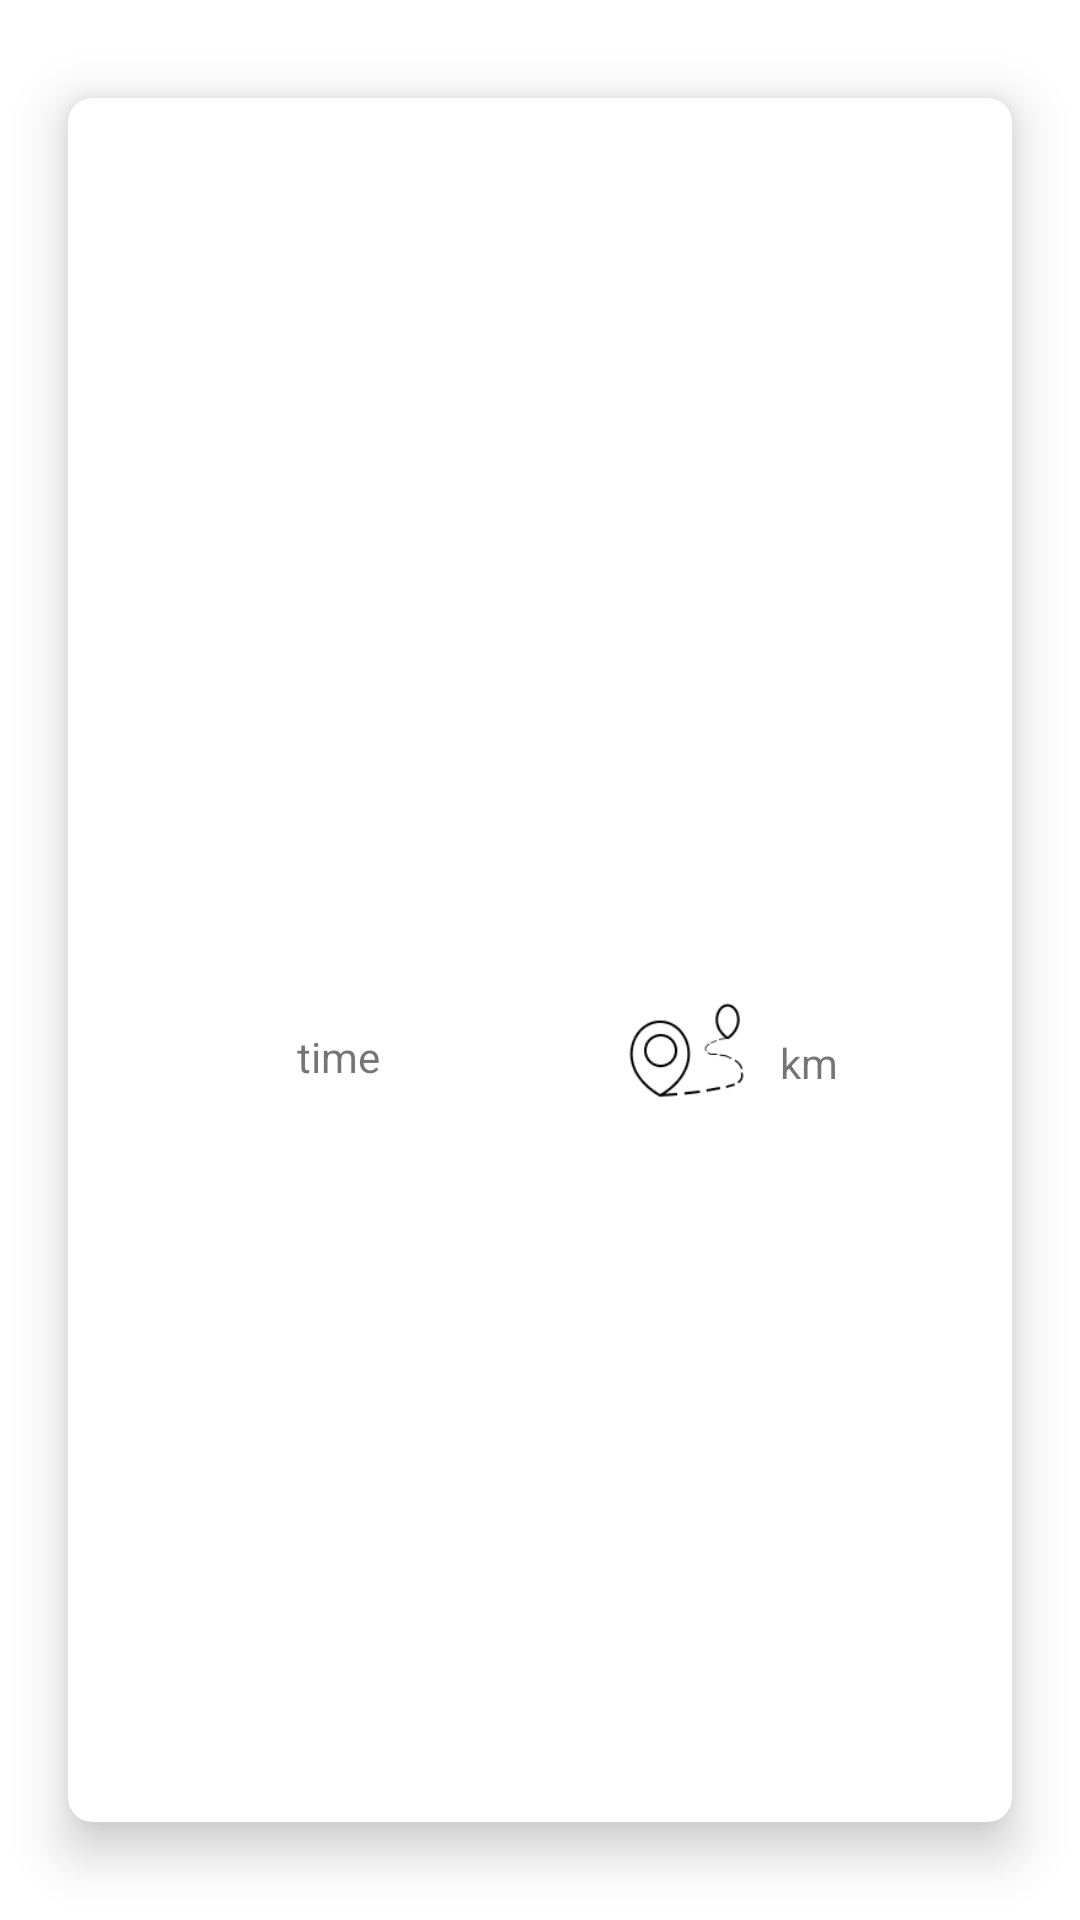

Locate icon controls on the screen. Image size 1080w x 1920h, boxes as region(x1, y1, x2, y2).
avstand: region(629, 1003, 744, 1097)
